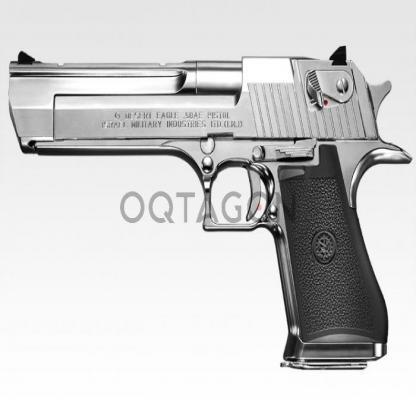Pistol: (5, 43, 412, 372)
